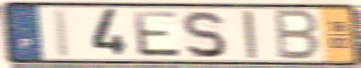4: (90, 7, 134, 61)
B: (274, 8, 322, 63)
E: (131, 9, 185, 59)
I: (52, 7, 72, 60), (240, 9, 260, 61)
S: (180, 9, 229, 60)
